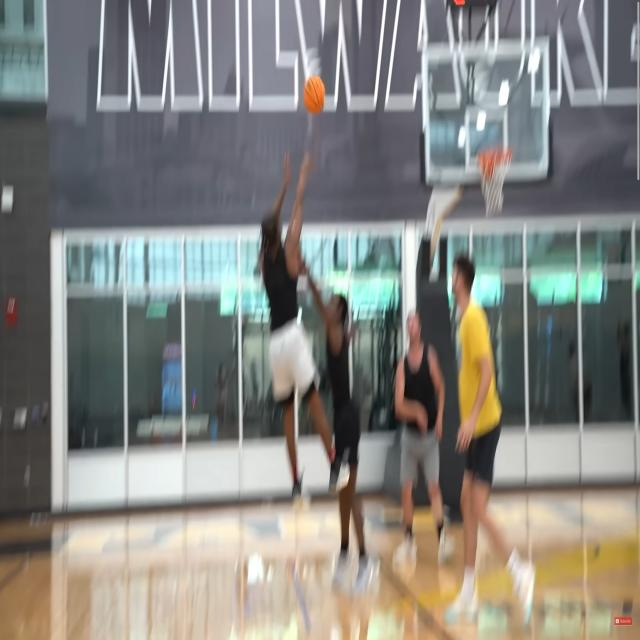Basketball: (304, 74, 325, 112)
Basketball Rim: (476, 148, 513, 218)
